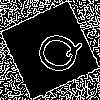Q: (25, 25, 84, 79)
